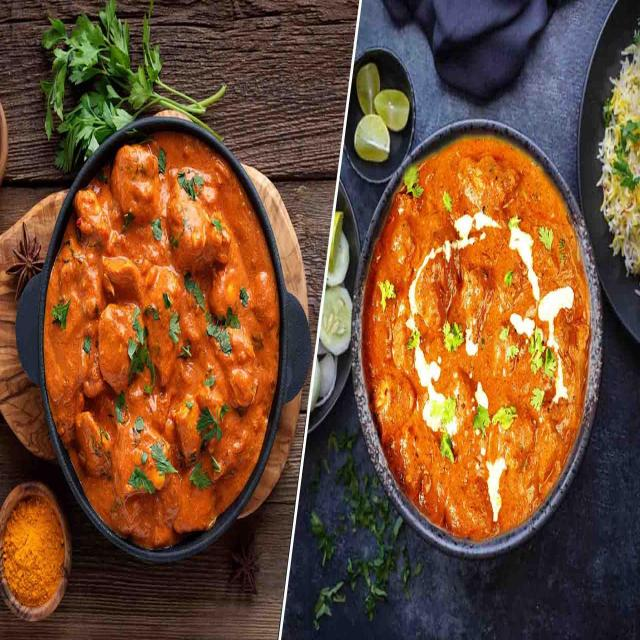chicken: (40, 133, 284, 545), (370, 110, 600, 543)
